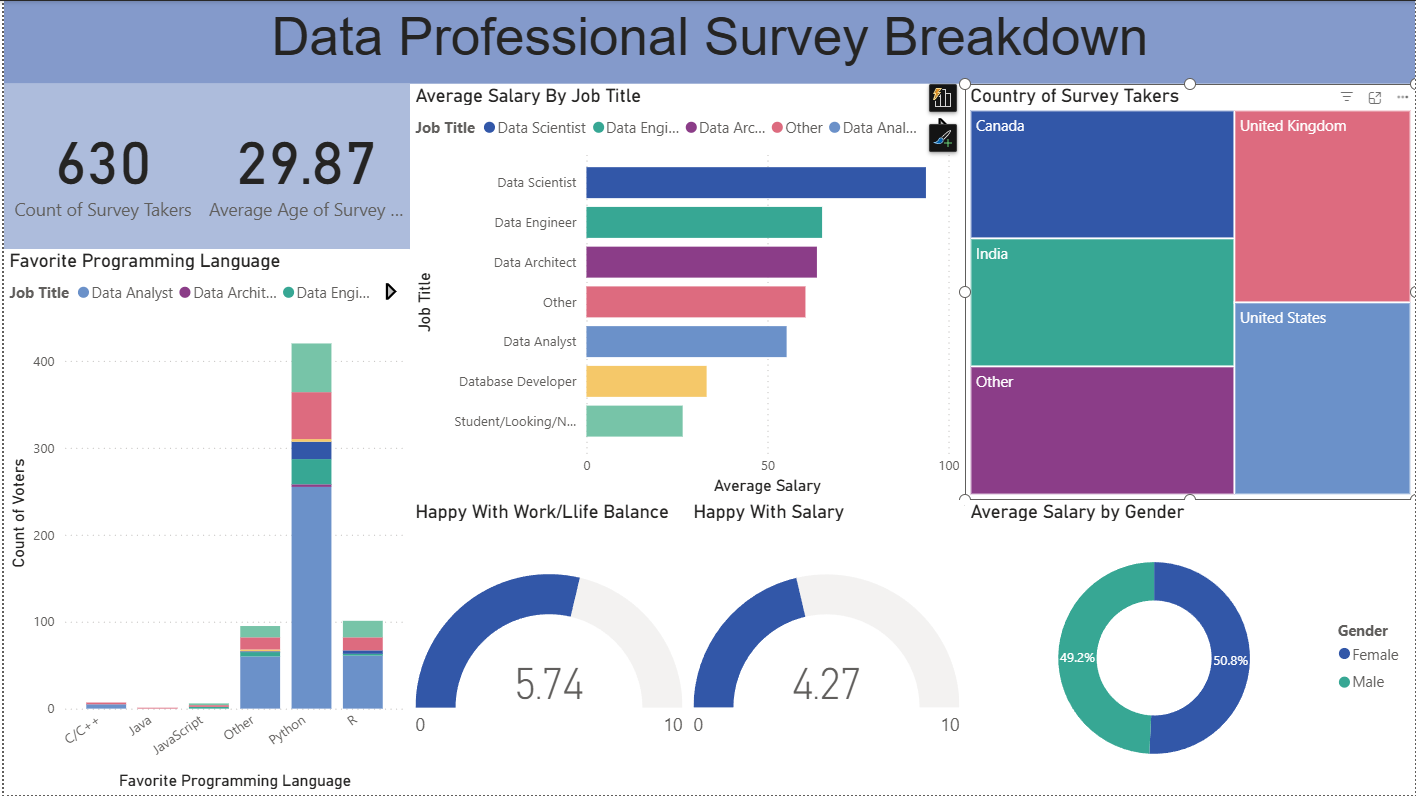

This screenshot's page, from the dashboard's own definition file:
{"tool":"powerbi","page":{"name":"Page 1","canvas":[1280,720],"ordinal":0},"visuals":[{"type":"textbox","box":[0,0,1280,75.5],"z":0},{"type":"card","fields":{"Values":["Count(Data Professional Survey.Unique ID)"]},"box":[0,75.3,179.5,149.6],"z":1000},{"type":"card","fields":{"Values":["Avg(Data Professional Survey.Q10 - Current Age)"]},"box":[179.5,75.3,188.6,149.6],"z":2000},{"type":"barChart","title":"Average Salary By Job Title","fields":{"Category":["Data Professional Survey.Q1 - Which Title Best Fits your Current Role?.1"],"Y":["Avg(Data Professional Survey.Average Salary)"],"Series":["Data Professional Survey.Q1 - Which Title Best Fits your Current Role?.1"]},"box":[368.2,75.3,503.3,377.2],"z":3000},{"type":"columnChart","title":"Favorite Programming Language","fields":{"Category":["Data Professional Survey.Q5 - Favorite Programming Language.1"],"Y":["CountNonNull(Data Professional Survey.Unique ID)"],"Series":["Data Professional Survey.Q1 - Which Title Best Fits your Current Role?.1"]},"box":[0,224.9,368.2,495.1],"z":4000},{"type":"treemap","title":"Country of Survey Takers","fields":{"Group":["Data Professional Survey.Q11 - Which Country do you live in?.1"],"Values":["Count(Data Professional Survey.Q11 - Which Country do you live in?.1)"]},"box":[871.4,75.3,409,377.2],"z":5000},{"type":"gauge","title":"Happy With Work/Llife Balance","fields":{"Y":["Avg(Data Professional Survey.Q6 - How Happy are you in your Current Position with the following? (Work/Life Balance))"],"MinValue":["Min(Data Professional Survey.Q6 - How Happy are you in your Current Position with the following? (Work/Life Balance))"],"MaxValue":["Max(Data Professional Survey.Q6 - How Happy are you in your Current Position with the following? (Work/Life Balance))1"]},"box":[368.2,452.5,252.1,267.5],"z":6000},{"type":"gauge","title":"Happy With Salary","fields":{"Y":["Avg(Data Professional Survey.Q6 - How Happy are you in your Current Position with the following? (Salary))"],"MinValue":["Min(Data Professional Survey.Q6 - How Happy are you in your Current Position with the following? (Salary))"],"MaxValue":["Max(Data Professional Survey.Q6 - How Happy are you in your Current Position with the following? (Salary))"]},"box":[620.3,452.5,251.2,267.5],"z":7000},{"type":"donutChart","title":"Average Salary by Gender","fields":{"Y":["Avg(Data Professional Survey.Average Salary)"],"Category":["Data Professional Survey.Q9 - Male/Female?"]},"box":[871.4,452.5,409,267.5],"z":8000}]}

Visuals, with their boxes in screenshot pixels (x1, y1, x2, y2):
textbox: bbox=(11, 0, 1407, 82)
card - Count(Data Professional Survey.Unique ID): bbox=(11, 82, 207, 245)
card - Avg(Data Professional Survey.Q10 - Current Age): bbox=(207, 82, 413, 245)
"Average Salary By Job Title" barChart: bbox=(413, 82, 962, 494)
"Favorite Programming Language" columnChart: bbox=(11, 245, 413, 785)
"Country of Survey Takers" treemap: bbox=(962, 82, 1408, 494)
"Happy With Work/Llife Balance" gauge: bbox=(413, 494, 688, 785)
"Happy With Salary" gauge: bbox=(688, 494, 962, 785)
"Average Salary by Gender" donutChart: bbox=(962, 494, 1408, 785)
